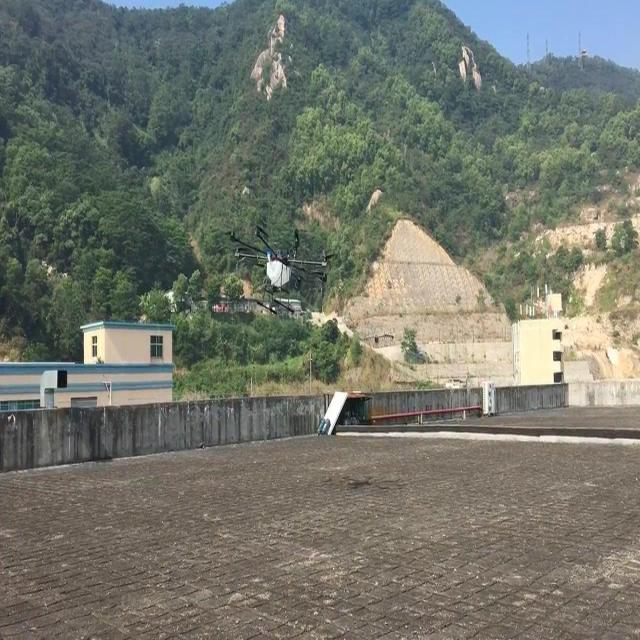drone: (229, 220, 330, 320)
